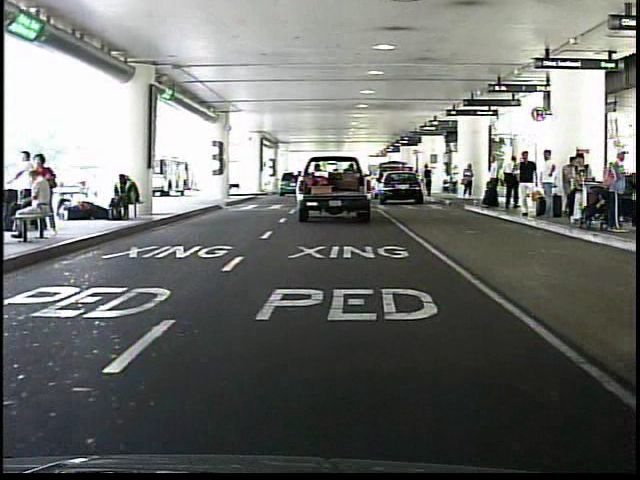person: (538, 146, 562, 224), (514, 149, 538, 224), (481, 151, 504, 214), (460, 161, 476, 203), (422, 162, 434, 199)
